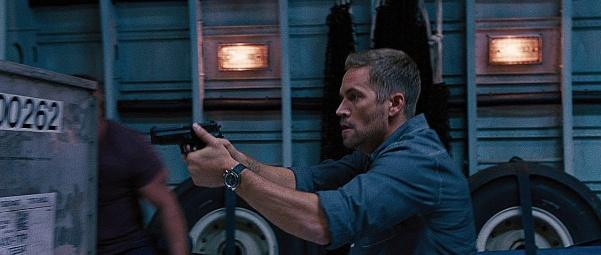Gun: (149, 120, 224, 155)
